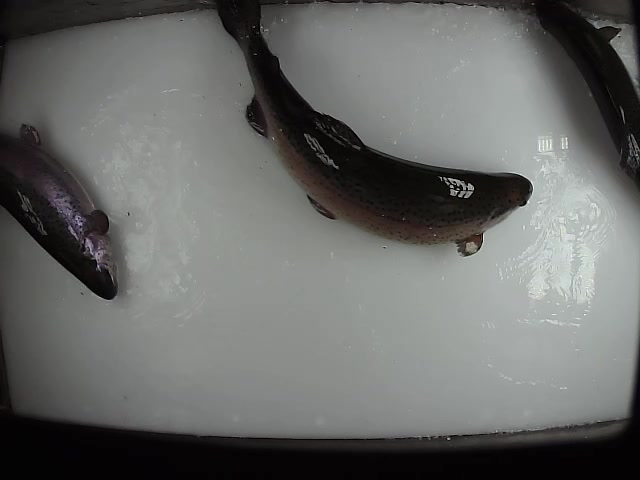fish: (213, 1, 535, 258), (1, 121, 119, 301)
